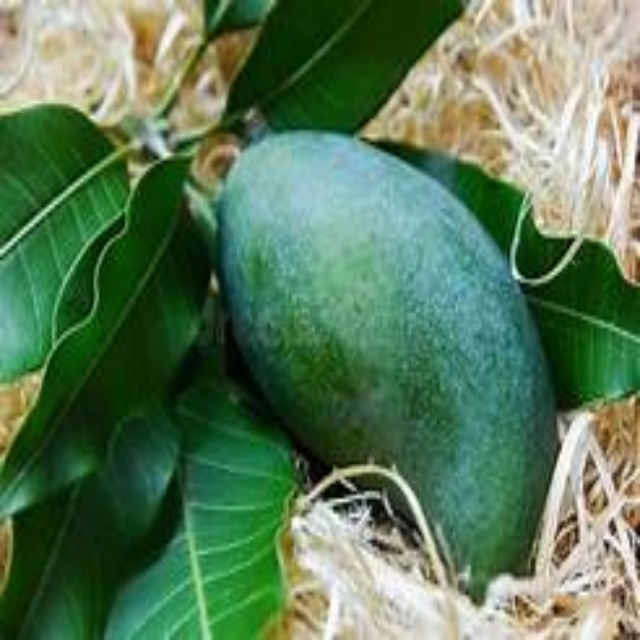mango: (198, 112, 556, 573)
